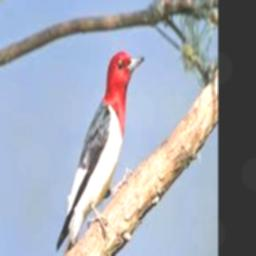Woodpecker: (56, 50, 144, 256)
